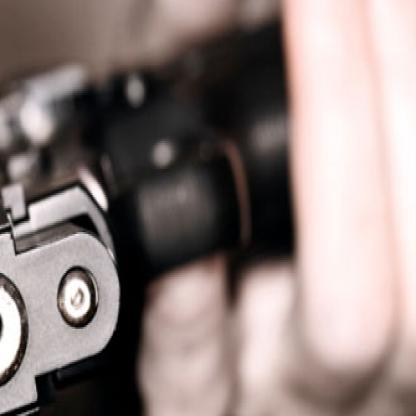gun: (0, 13, 385, 414)
